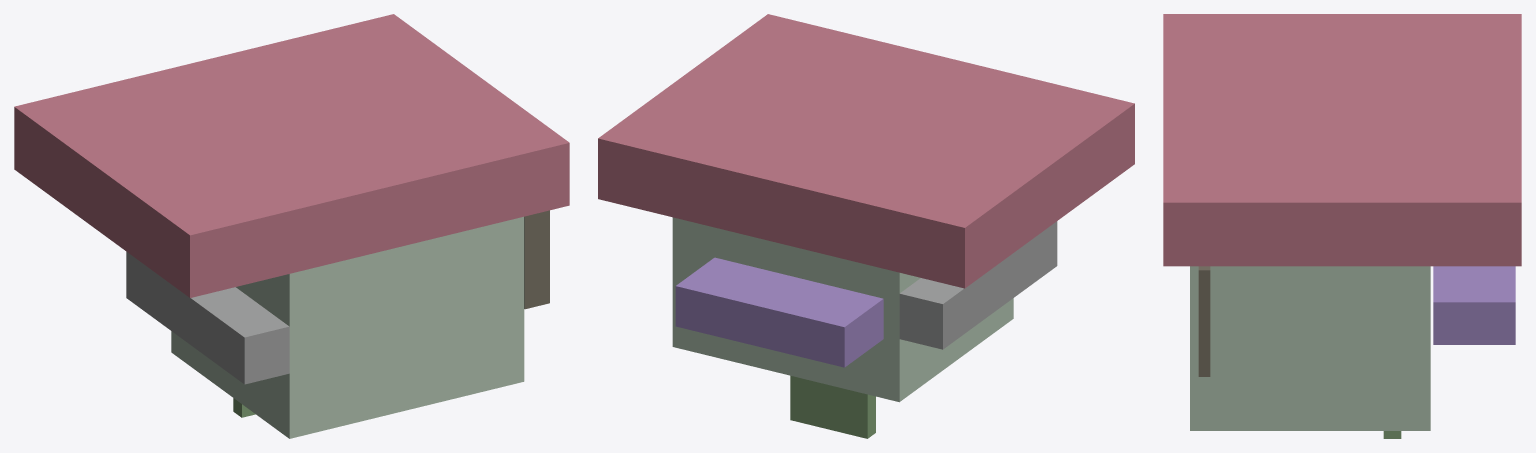
3 views of the same model, side by side, from view 1: azimuth 30°, elevation 25°; view 2: azimuth 150°, elevation 25°; view 3: azimuth 270°, elevation 25° (orthographic). The views are drawn at different scales.
Visible parts, largest first — view 1: world; view 2: world; view 3: world.
Part boxes in pixels (x1,y1,x2,y2): world: (14, 14, 569, 438); world: (598, 14, 1134, 438); world: (1163, 14, 1521, 438).
Bounding box in the file's own units: 7.6 × 5.75 × 6.1.
